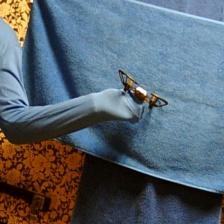drone: (117, 67, 169, 110)
